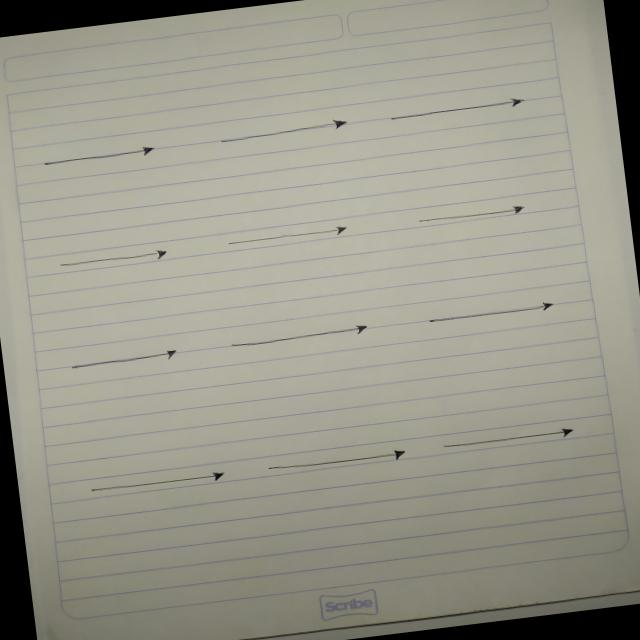arrow_line_right: (204, 111, 358, 161), (24, 132, 176, 182), (218, 316, 382, 362), (412, 292, 562, 340), (251, 441, 411, 486), (78, 460, 233, 506), (375, 91, 537, 134), (208, 218, 352, 262), (434, 422, 584, 461), (47, 240, 181, 280), (406, 195, 532, 236), (59, 341, 187, 379)
